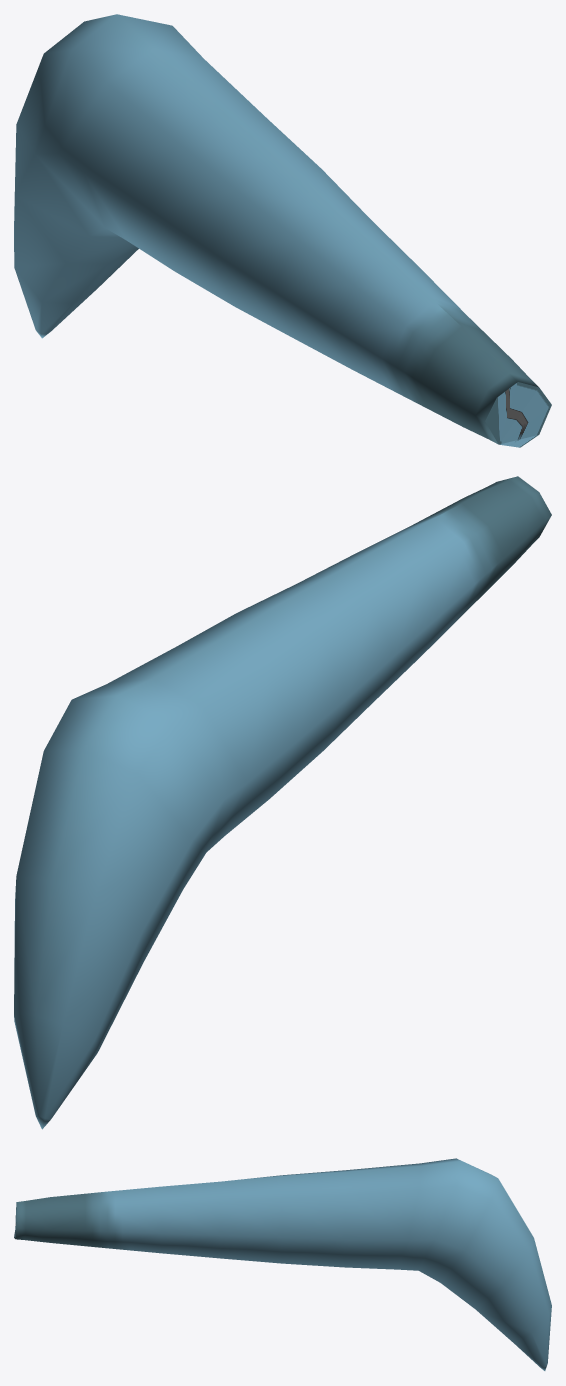
File: LucarioCola.obj
The picture shows the model from 3 angles, top to bottom: view 1: azimuth 30°, elevation 25°; view 2: azimuth 150°, elevation 25°; view 3: azimuth 270°, elevation 25°; orthographic projection. The views are drawn at different scales.
Parts seen in each view (by area): view 1: Cola001; view 2: Cola001; view 3: Cola001.
Part boxes in pixels (x1,y1,x2,y2): Cola001: (14, 14, 551, 447); Cola001: (14, 476, 551, 1129); Cola001: (14, 1158, 551, 1370).
Size of the model in its own units: 0.7681 by 1.67 by 3.86.
